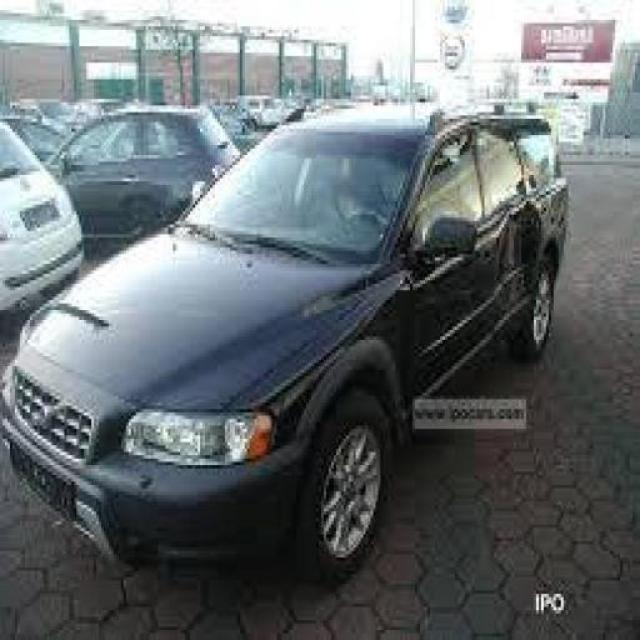dent: (488, 198, 548, 323)
